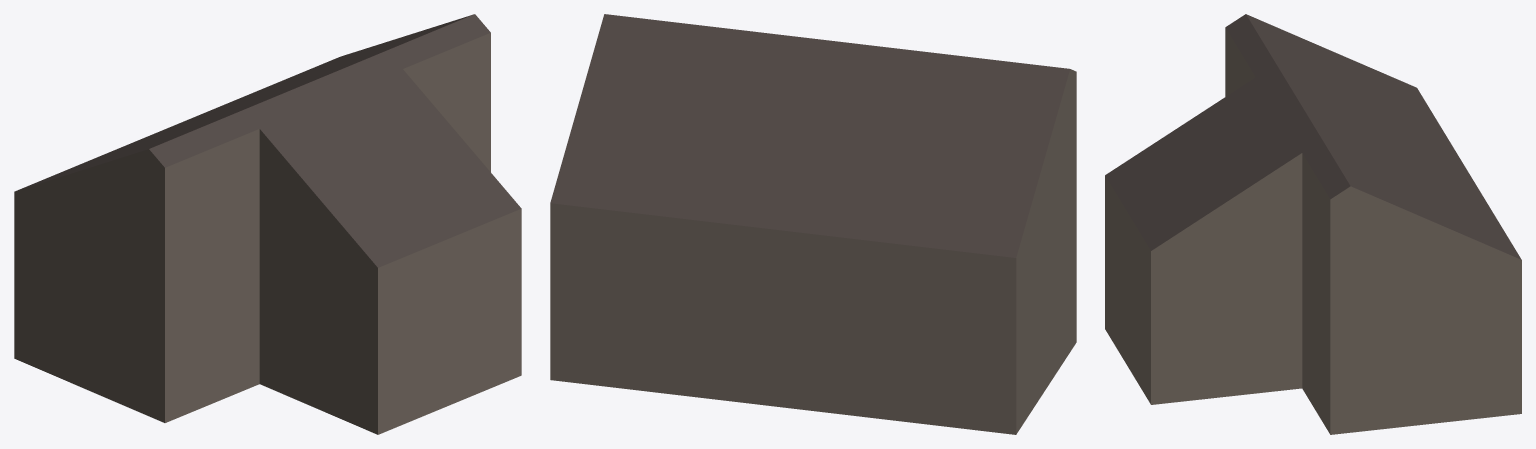
The picture shows the model from 3 angles, left to right: view 1: azimuth 30°, elevation 25°; view 2: azimuth 150°, elevation 25°; view 3: azimuth 270°, elevation 25°; orthographic projection. The views are drawn at different scales.
Parts seen in each view (by area): view 1: HP-w1200835400; view 2: HP-w1200835400; view 3: HP-w1200835400.
Part boxes in pixels (x1,y1,x2,y2): HP-w1200835400: [14, 14, 521, 434]; HP-w1200835400: [550, 14, 1076, 434]; HP-w1200835400: [1105, 14, 1521, 434].
Bounding box in the file's own units: 24.24 × 14.41 × 22.09.
